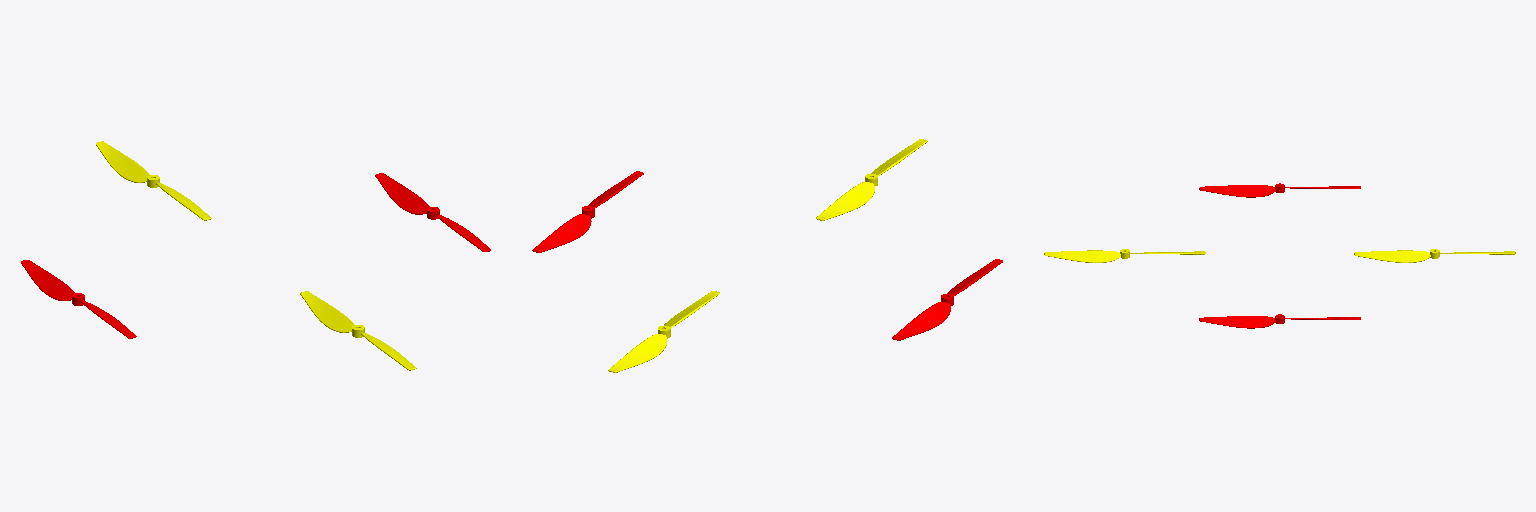
robot.urdf — quadcopter:
<?xml version="1.0" ?>

<robot name="quadcopter">

    <properties
        arm="0.6103554729940336"
        kf="3.16e-10"
        km="7.94e-12"
        thrust2weight="2.25"
        max_speed_kmh="30"
        gnd_eff_coeff="11.36859"
        prop_radius="0.023221188"
        drag_coeff_xy="9.1785e-3"
        drag_coeff_z="10.311e-3"
        dw_coeff_1="276700.18"
        dw_coeff_2=".16"
        dw_coeff_3="-.11"
    />

    <material name="blue">
        <color rgba="0.0 0.0 1.0 1"/>
    </material>
    <material name="red">
        <color rgba="1.0 0.0 0.0 1"/>
    </material>
    <material name="yellow">
        <color rgba="1.0 1.0 0.0 1"/>
    </material>
    <material name="black">
        <color rgba="0.0 0.0 0.0 1"/>
    </material>

    <link name="base_link">
        <inertial>
            <origin rpy="0 0 0" xyz="0 0 0"/>
            <mass value="1.5"/>
            <inertia ixx="0.05882796066757756" ixy="0" ixz="0" iyy="0.05882796066757756" iyz="0" izz="0.10784585361079733"/>
        </inertial>
        <visual>
            <origin rpy="0 0 0" xyz="0 0 0"/>
            <geometry>
                <mesh filename="./body.obj" scale="0.002 0.002 0.002"/>
            </geometry>
            <material name="blue"/>
        </visual>
        <collision>
            <origin rpy="0 0 0" xyz="0 0 -0.038720785"/>
            <geometry>
                <box size="0.6567978489940336 0.6567978489940336 0.198091572"/>
            </geometry>
        </collision>
    </link>

    <link name="prop0_link">
        <inertial>
            <origin rpy="0 0 0" xyz="0.6103554729940336 0.0 0.077638654"/>
            <mass value="0"/>
            <inertia ixx="0" ixy="0" ixz="0" iyy="0" iyz="0" izz="0"/>
        </inertial>
        <visual>
            <origin rpy="0 0 0" xyz="0.6103554729940336 0.0 0.077638654"/>
            <geometry>
                <mesh filename="./prop.obj" scale="0.002 0.002 0.002"/>
            </geometry>
            <material name="red"/>
        </visual>
    </link>
    <joint name="prop0_joint" type="fixed">
        <parent link="base_link"/>
        <child link="prop0_link"/>
    </joint>

    <link name="prop1_link">
        <inertial>
            <origin rpy="0 0 0" xyz="0.0 -0.6103554729940336 0.077638654"/>
            <mass value="0"/>
            <inertia ixx="0" ixy="0" ixz="0" iyy="0" iyz="0" izz="0"/>
        </inertial>
        <visual>
            <origin rpy="0 0 0" xyz="0.0 -0.6103554729940336 0.077638654"/>
            <geometry>
                <mesh filename="./prop.obj" scale="0.002 0.002 0.002"/>
            </geometry>
            <material name="yellow"/>
        </visual>
    </link>
    <joint name="prop1_joint" type="fixed">
        <parent link="base_link"/>
        <child link="prop1_link"/>
    </joint>

    <link name="prop2_link">
        <inertial>
            <origin rpy="0 0 0" xyz="-0.6103554729940336 0.0 0.077638654"/>
            <mass value="0"/>
            <inertia ixx="0" ixy="0" ixz="0" iyy="0" iyz="0" izz="0"/>
        </inertial>
        <visual>
            <origin rpy="0 0 0" xyz="-0.6103554729940336 0.0 0.077638654"/>
            <geometry>
                <mesh filename="./prop.obj" scale="0.002 0.002 0.002"/>
            </geometry>
            <material name="red"/>
        </visual>
    </link>
    <joint name="prop2_joint" type="fixed">
        <parent link="base_link"/>
        <child link="prop2_link"/>
    </joint>
    
    <link name="prop3_link">
        <inertial>
            <origin rpy="0 0 0" xyz="0.0 0.6103554729940336 0.077638654"/>
            <mass value="0"/>
            <inertia ixx="0" ixy="0" ixz="0" iyy="0" iyz="0" izz="0"/>
        </inertial>
        <visual>
            <origin rpy="0 0 0" xyz="0.0 0.6103554729940336 0.077638654"/>
            <geometry>
                <mesh filename="./prop.obj" scale="0.002 0.002 0.002"/>
            </geometry>
            <material name="yellow"/>
        </visual>
    </link>
    <joint name="prop3_joint" type="fixed">
        <parent link="base_link"/>
        <child link="prop3_link"/>
    </joint>

</robot>

--- Render facts (derived) ---
Views: 3 orthographic renders of the robot side by side, from view 1: azimuth 30°, elevation 25°; view 2: azimuth 150°, elevation 25°; view 3: azimuth 270°, elevation 25°.
Robot: quadcopter — 5 links, 4 joints (4 fixed); root link base_link; default pose: all joints at 0.
Visible links, largest first — view 1: prop1_link, prop2_link, prop0_link, prop3_link; view 2: prop3_link, prop1_link, prop0_link, prop2_link; view 3: prop0_link, prop2_link, prop3_link, prop1_link.
Link boxes in pixels (bbox=[...]): prop1_link: bbox=[300, 291, 416, 370]; prop2_link: bbox=[21, 260, 136, 338]; prop0_link: bbox=[375, 173, 490, 251]; prop3_link: bbox=[96, 141, 211, 220]; prop3_link: bbox=[608, 291, 719, 372]; prop1_link: bbox=[816, 139, 927, 220]; prop0_link: bbox=[532, 171, 643, 252]; prop2_link: bbox=[892, 259, 1002, 340]; prop0_link: bbox=[1199, 314, 1360, 328]; prop2_link: bbox=[1199, 183, 1360, 197]; prop3_link: bbox=[1354, 249, 1515, 262]; prop1_link: bbox=[1044, 249, 1205, 262].
Bounding box of the posed robot: 1.31 × 1.86 × 0.0332 m (x, y, z).
Meshes: 2 distinct files referenced, 4 mesh visuals loaded (1 OBJ); not drawn: 1 (reference not matched to a file when rendering).
